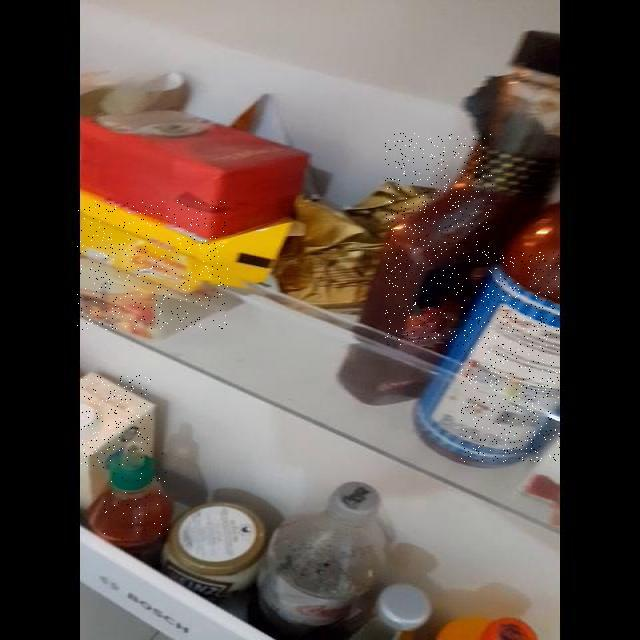butter: (77, 200, 228, 330)
milk: (81, 375, 152, 468)
sauce: (386, 133, 494, 346), (461, 251, 560, 462), (103, 452, 168, 539)
